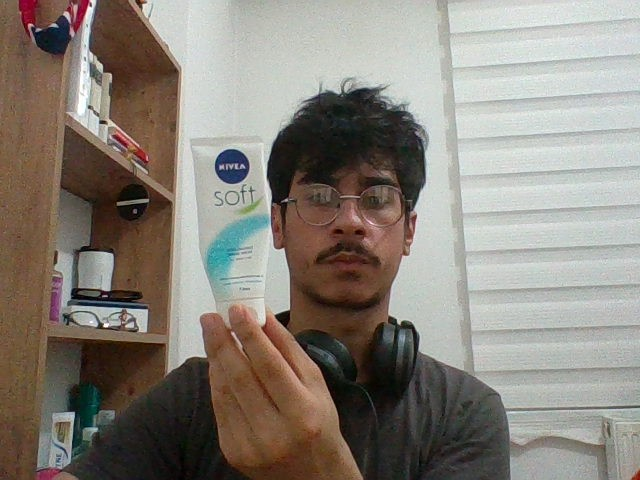NiveaSoft: (189, 139, 273, 327)
